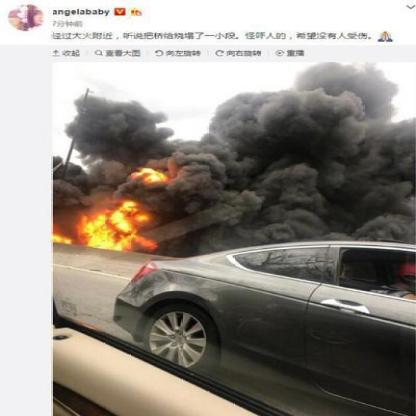fire: (52, 156, 177, 258)
smoke: (167, 102, 400, 238)
